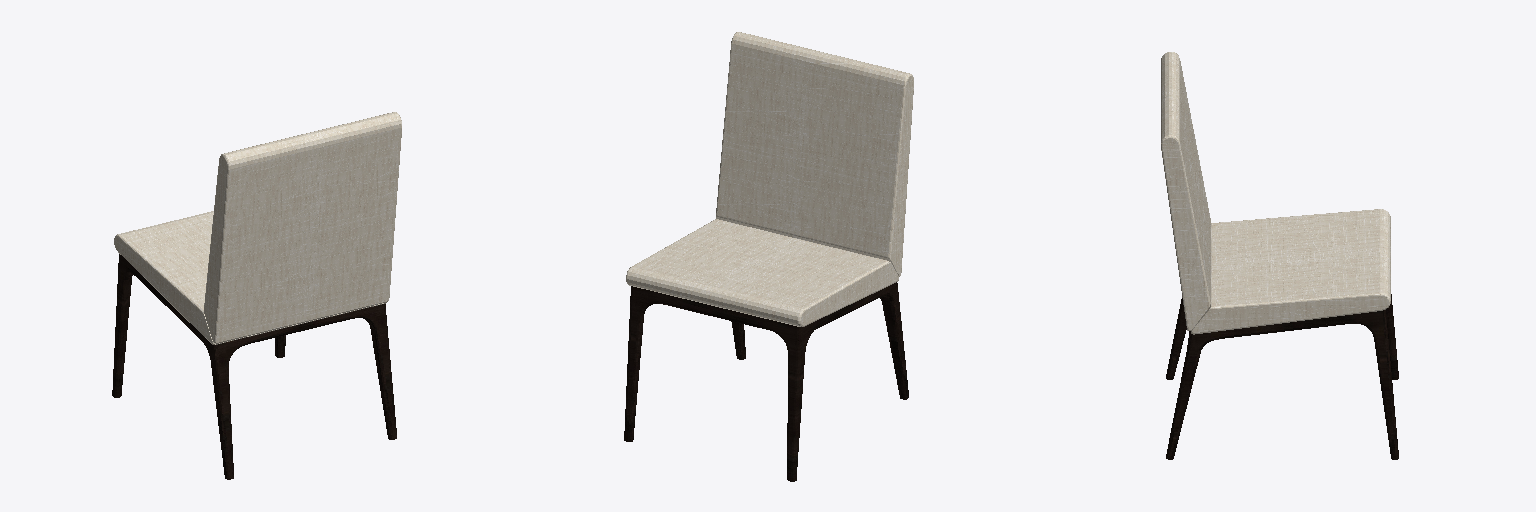
The picture shows the model from 3 angles: view 1: azimuth 30°, elevation 25°; view 2: azimuth 150°, elevation 25°; view 3: azimuth 270°, elevation 25°; orthographic projection.
Parts seen in each view (by area): view 1: mesh6_mesh6-geometry, mesh5_mesh5-geometry, mesh1_mesh1-geometry, mesh2_mesh2-geometry, mesh4_mesh4-geometry, mesh3_mesh3-geometry; view 2: mesh6_mesh6-geometry, mesh5_mesh5-geometry, mesh1_mesh1-geometry, mesh2_mesh2-geometry; view 3: mesh5_mesh5-geometry, mesh6_mesh6-geometry, mesh1_mesh1-geometry, mesh4_mesh4-geometry, mesh2_mesh2-geometry.
Boxes of the visible parts, x1=… form: mesh6_mesh6-geometry: x1=204, y1=112, x2=401, y2=343; mesh5_mesh5-geometry: x1=114, y1=211, x2=385, y2=344; mesh1_mesh1-geometry: x1=112, y1=254, x2=285, y2=397; mesh2_mesh2-geometry: x1=209, y1=342, x2=233, y2=479; mesh4_mesh4-geometry: x1=370, y1=304, x2=396, y2=439; mesh3_mesh3-geometry: x1=226, y1=306, x2=377, y2=363; mesh6_mesh6-geometry: x1=716, y1=32, x2=913, y2=276; mesh5_mesh5-geometry: x1=626, y1=219, x2=898, y2=326; mesh1_mesh1-geometry: x1=624, y1=284, x2=894, y2=481; mesh2_mesh2-geometry: x1=881, y1=282, x2=908, y2=399; mesh5_mesh5-geometry: x1=1191, y1=209, x2=1390, y2=334; mesh6_mesh6-geometry: x1=1161, y1=52, x2=1210, y2=330; mesh1_mesh1-geometry: x1=1197, y1=294, x2=1398, y2=459; mesh4_mesh4-geometry: x1=1166, y1=332, x2=1202, y2=459; mesh2_mesh2-geometry: x1=1166, y1=298, x2=1186, y2=379.
Bounding box in the file's own units: 0.4245 × 0.7542 × 0.5009.
3 materials, 2 textured.